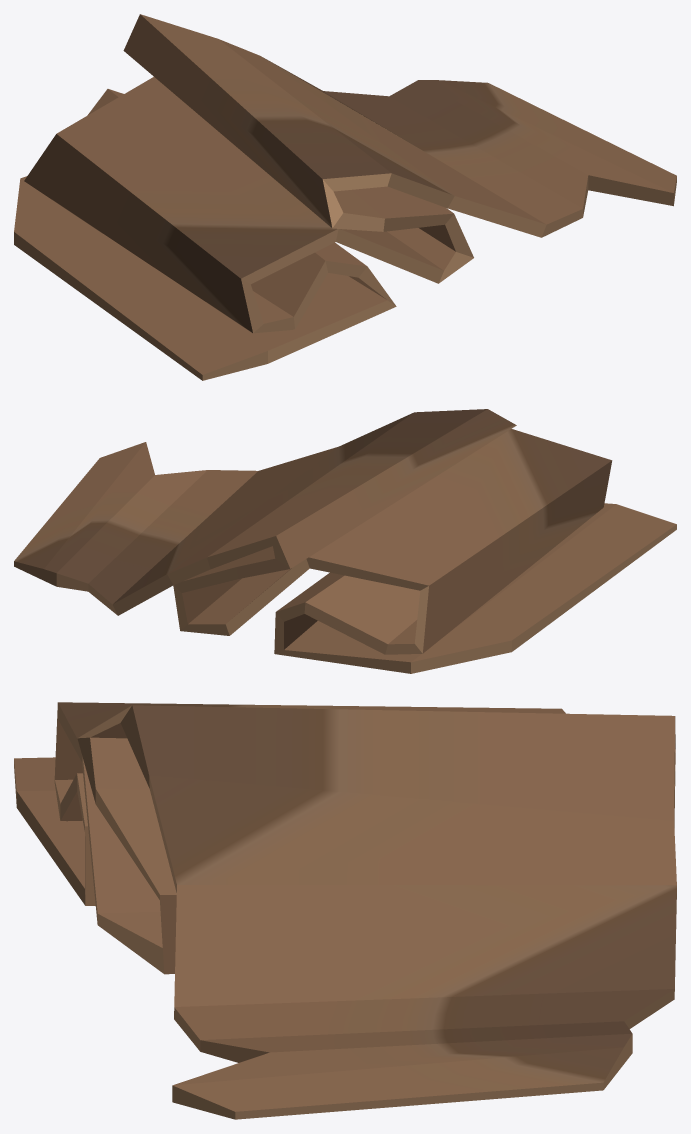
File: SM_Skin_Flap.fbx
3 renders of one model, top to bottom at view 1: azimuth 30°, elevation 25°; view 2: azimuth 150°, elevation 25°; view 3: azimuth 270°, elevation 25°, orthographic. The views are drawn at different scales.
Parts seen in each view (by area): view 1: SM_Skin_Flap; view 2: SM_Skin_Flap; view 3: SM_Skin_Flap.
Boxes of the visible parts, x1=… form: SM_Skin_Flap: x1=14, y1=14, x2=676, y2=380; SM_Skin_Flap: x1=14, y1=409, x2=676, y2=673; SM_Skin_Flap: x1=14, y1=702, x2=676, y2=1119.
Bounding box in the file's own units: 62.92 × 14.22 × 49.68.
